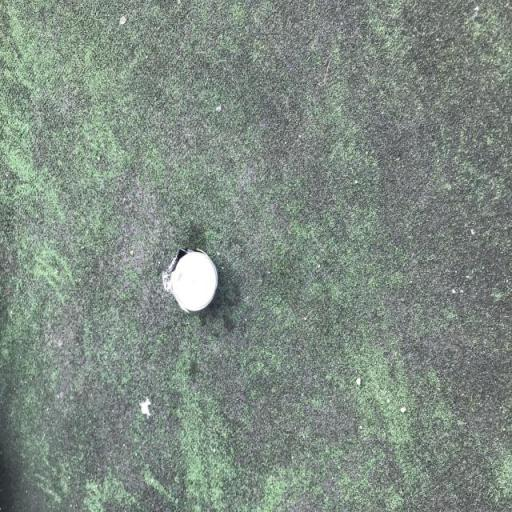metal: (142, 218, 250, 336)
